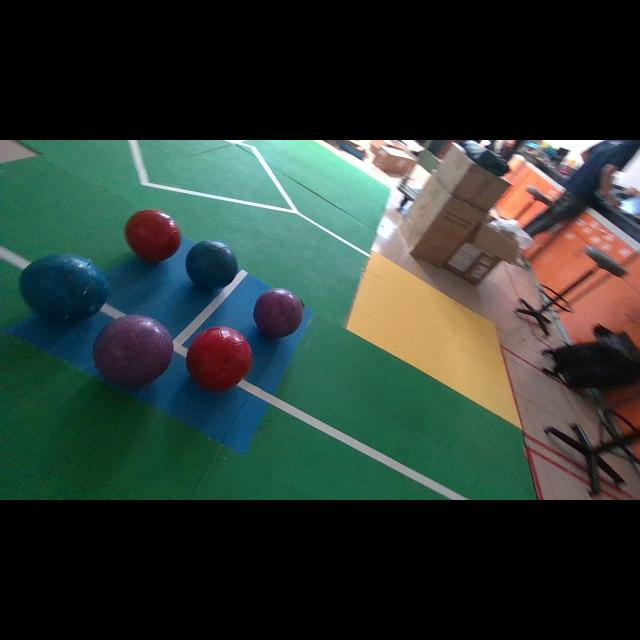B: (19, 254, 109, 321), (186, 241, 238, 291)
P: (92, 315, 174, 388), (254, 289, 304, 337)
R: (186, 326, 252, 391), (126, 209, 181, 262)
